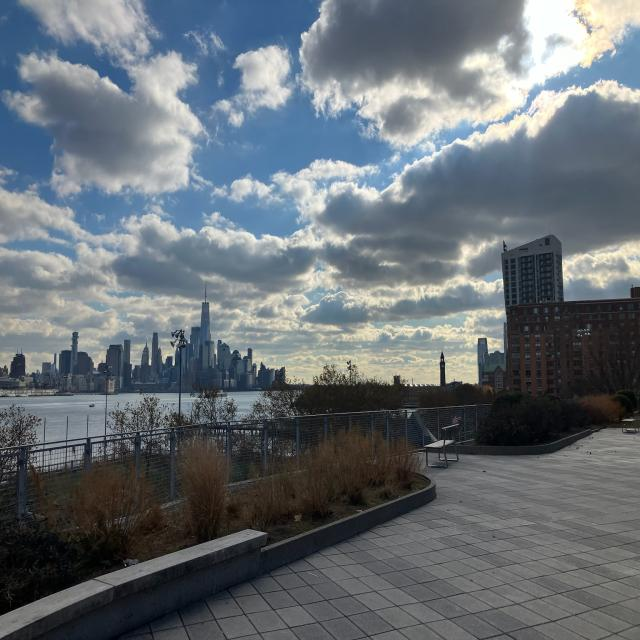WTC: (199, 280, 211, 343)
